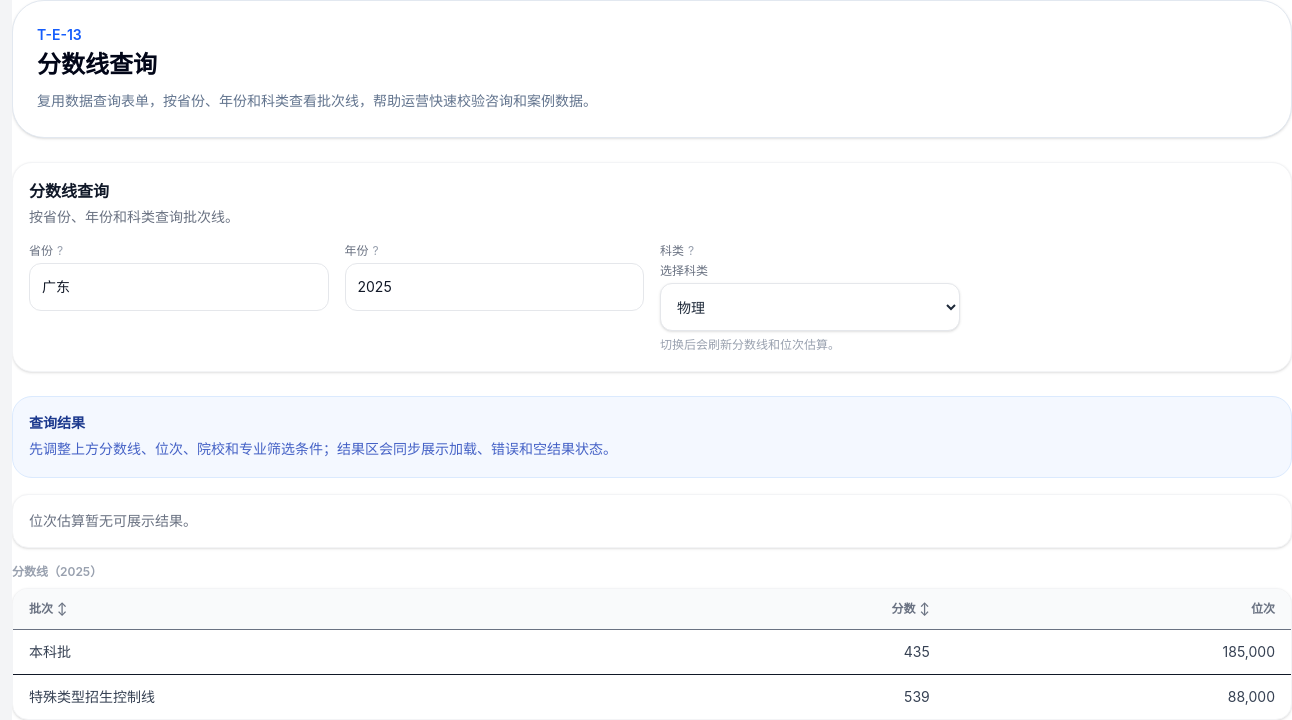
Test: AdminScoreLinesPage › refreshes score lines when subject type changes
Check: the text "435" is shown, box [659, 630, 946, 674]
Select "历史" in the dropdown labelled "选择科类". click: coordinates (810, 307)
box: [660, 283, 960, 331]
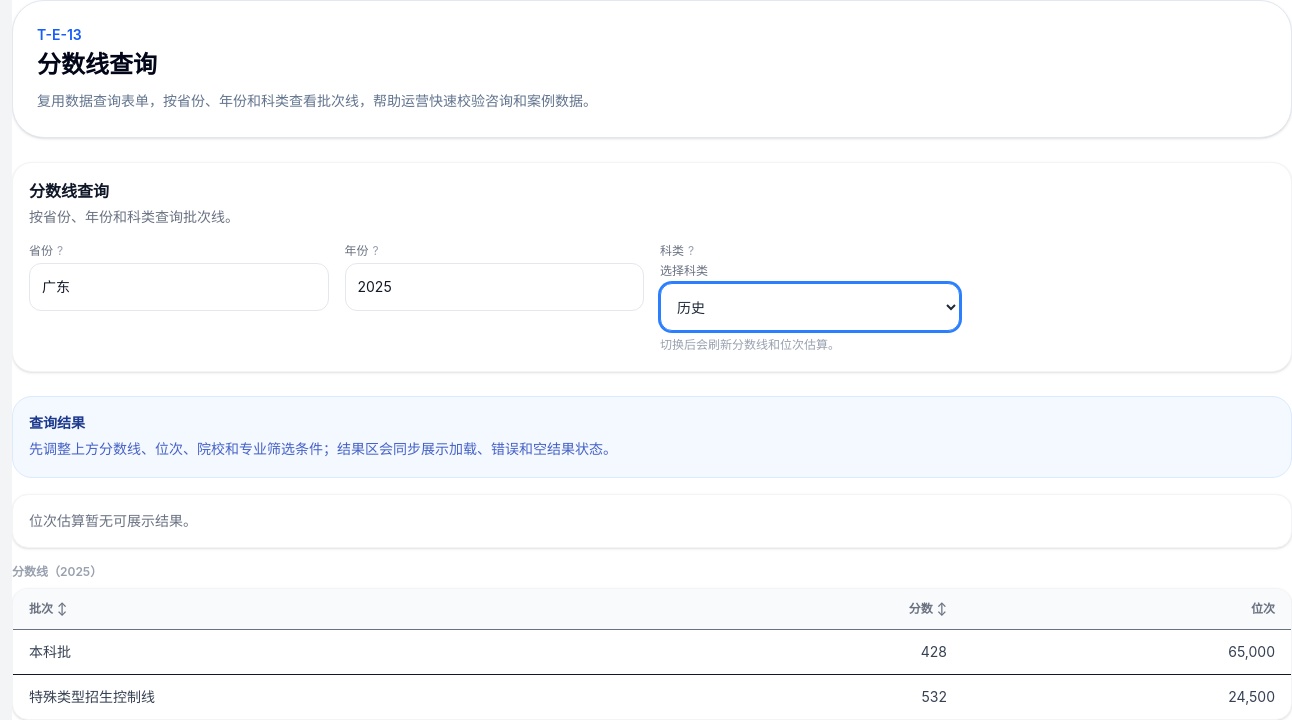
Check: the text "428" is shown, box [671, 630, 963, 674]
Check: the text "435" is gone
